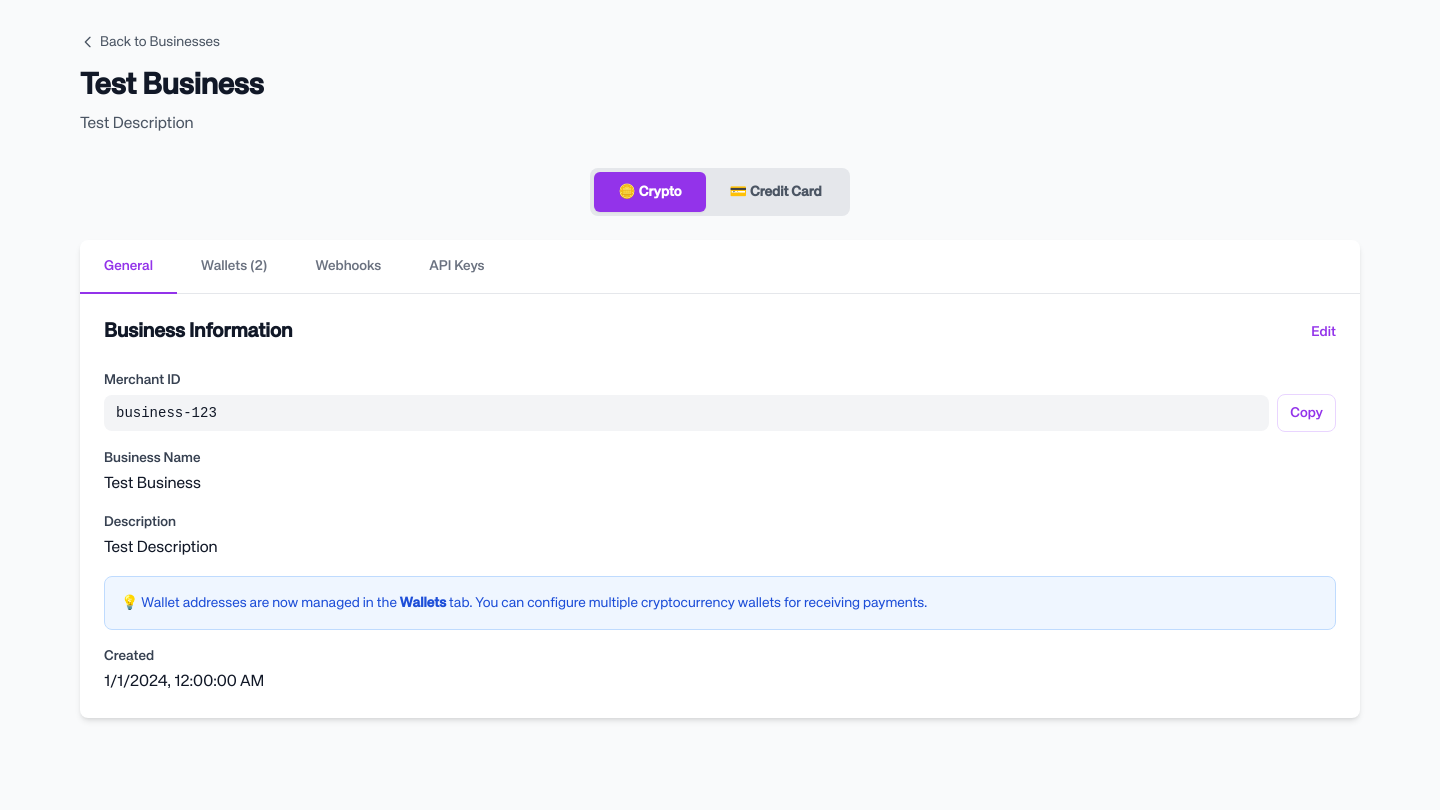
Test case: BusinessDetailPage › Tab Navigation › should switch to Webhooks tab when clicked
The image size is (1440, 810).
Check: the heading "Test Business" is shown, box [80,71,264,101]
Click the button "Webhooks": click(348, 267) [292,240,405,294]
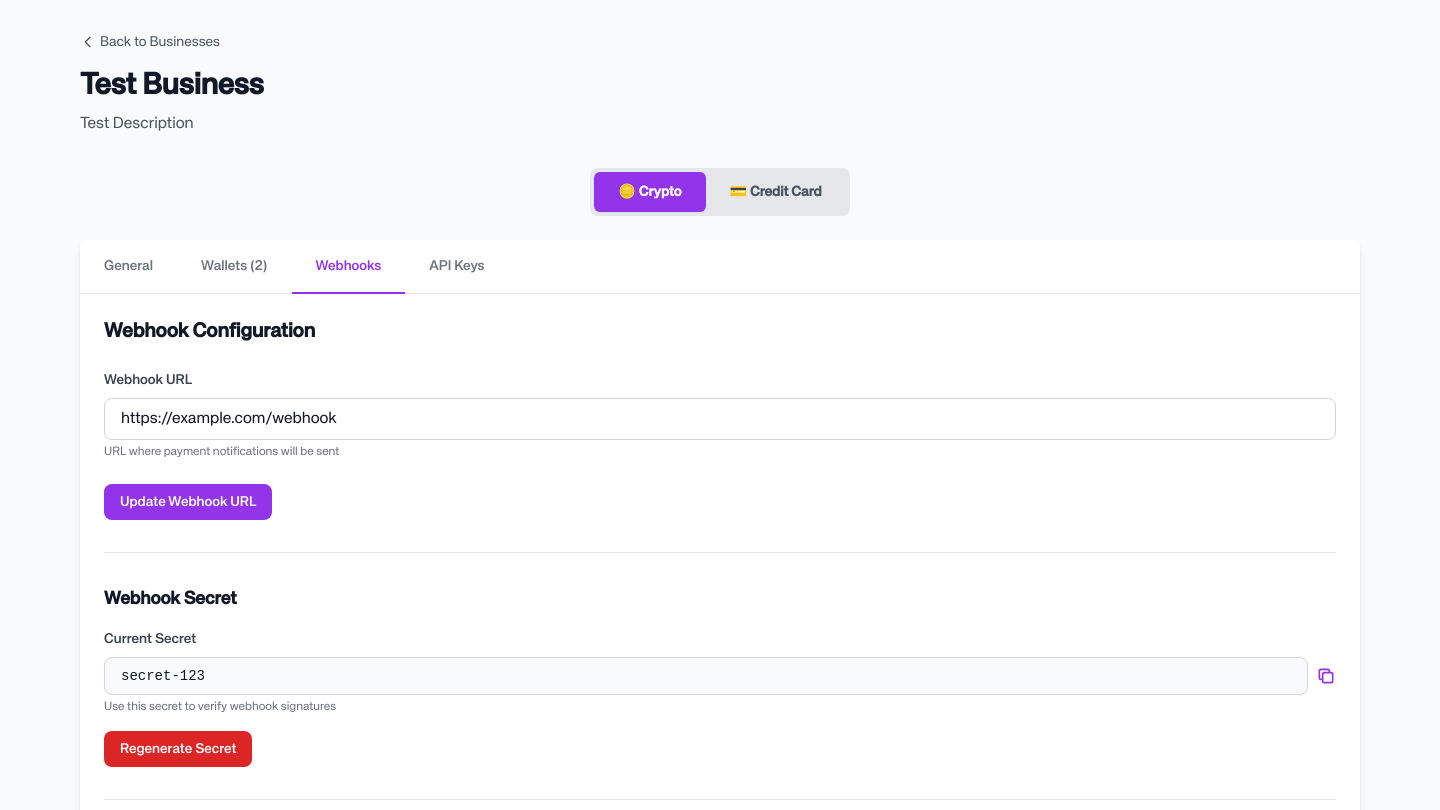
Check: the heading "Webhook Configuration" is shown, box [104,322,315,342]
